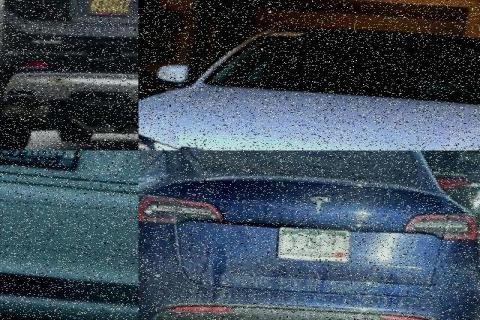LicensePlate: (0, 150, 86, 186), (269, 228, 343, 266), (80, 0, 134, 20)
